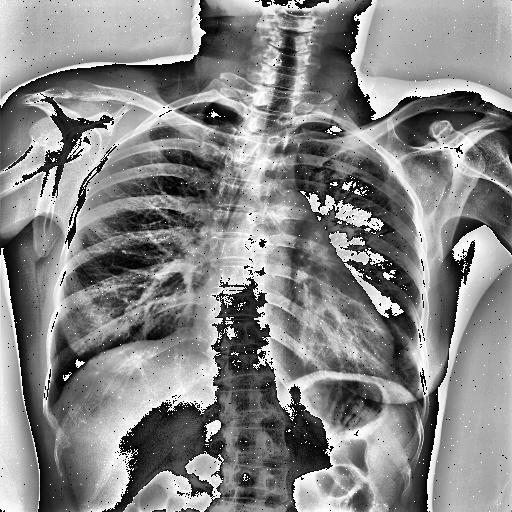10- Pleural effusion: (40, 392, 64, 415)
11- Pleural thickening: (40, 392, 64, 415)
3- Cardiomegaly: (192, 298, 394, 378), (190, 309, 394, 376), (193, 308, 397, 374)
9- Other lesion: (201, 137, 261, 300), (310, 228, 362, 291)
